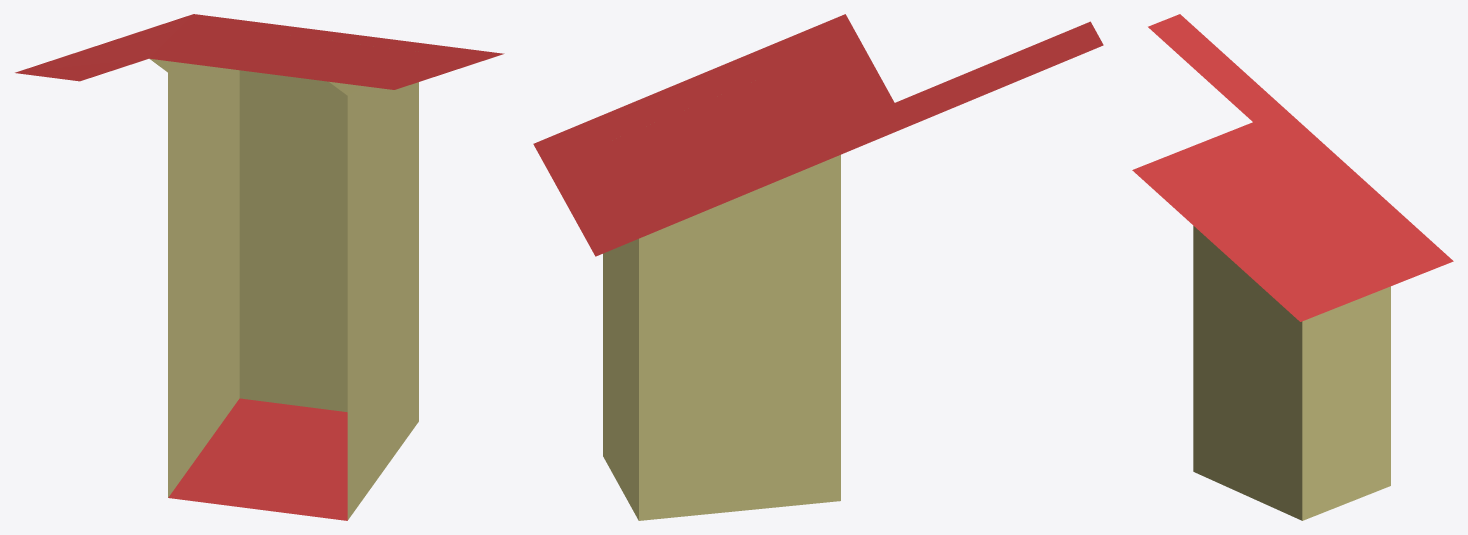
3 views of the same model, side by side, from view 1: azimuth 30°, elevation 25°; view 2: azimuth 150°, elevation 25°; view 3: azimuth 270°, elevation 25° (orthographic). The views are drawn at different scales.
Size of the model in its own units: 9.8 by 7.23 by 8.66.
